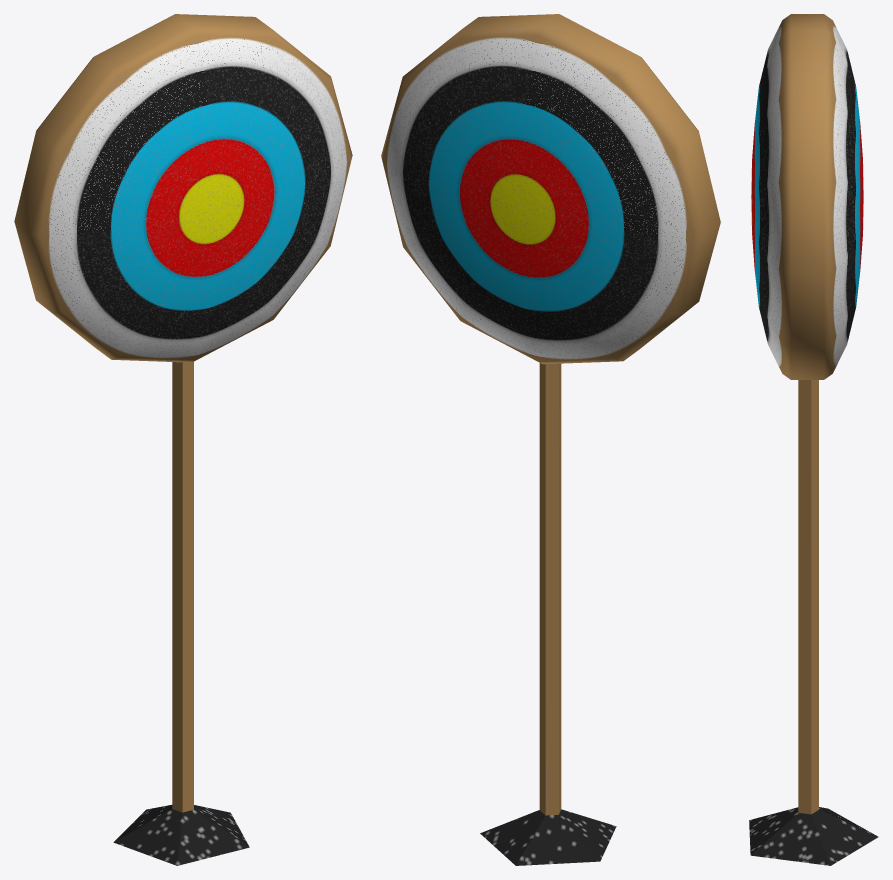
File: mato.fbx
The picture shows the model from 3 angles, left to right: view 1: azimuth 30°, elevation 25°; view 2: azimuth 150°, elevation 25°; view 3: azimuth 270°, elevation 25°; orthographic projection.
Parts seen in each view (by area): view 1: pCylinder2, pCylinder1, pPyramid1; view 2: pCylinder2, pCylinder1, pPyramid1; view 3: pCylinder2, pCylinder1, pPyramid1.
Part boxes in pixels (box(x1,y1,x2,y2)): pCylinder2: box(14, 14, 352, 362); pCylinder1: box(172, 362, 193, 812); pPyramid1: box(113, 805, 249, 865); pCylinder2: box(381, 14, 720, 364); pCylinder1: box(539, 363, 561, 815); pPyramid1: box(480, 809, 616, 865); pCylinder2: box(751, 14, 863, 379); pCylinder1: box(798, 380, 818, 814); pPyramid1: box(749, 807, 878, 865).
Size of the model in its own units: 7.87 by 19.08 by 2.78.
Materials: 1 (1 with a texture image).
